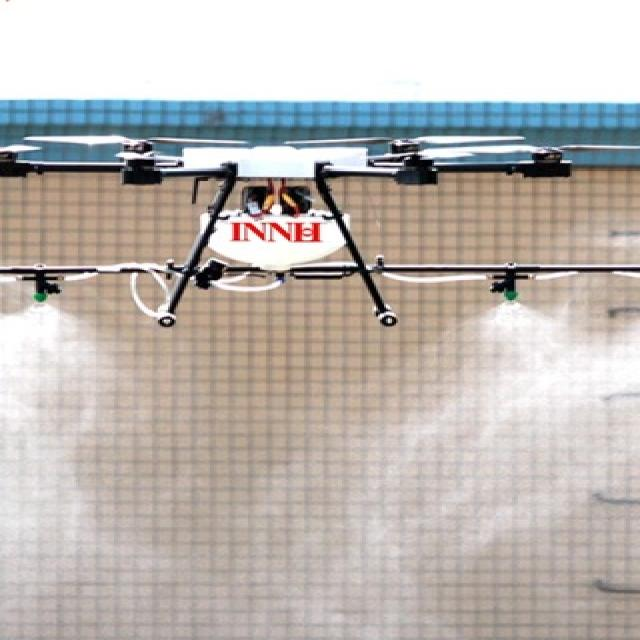drone: (0, 113, 640, 227)
